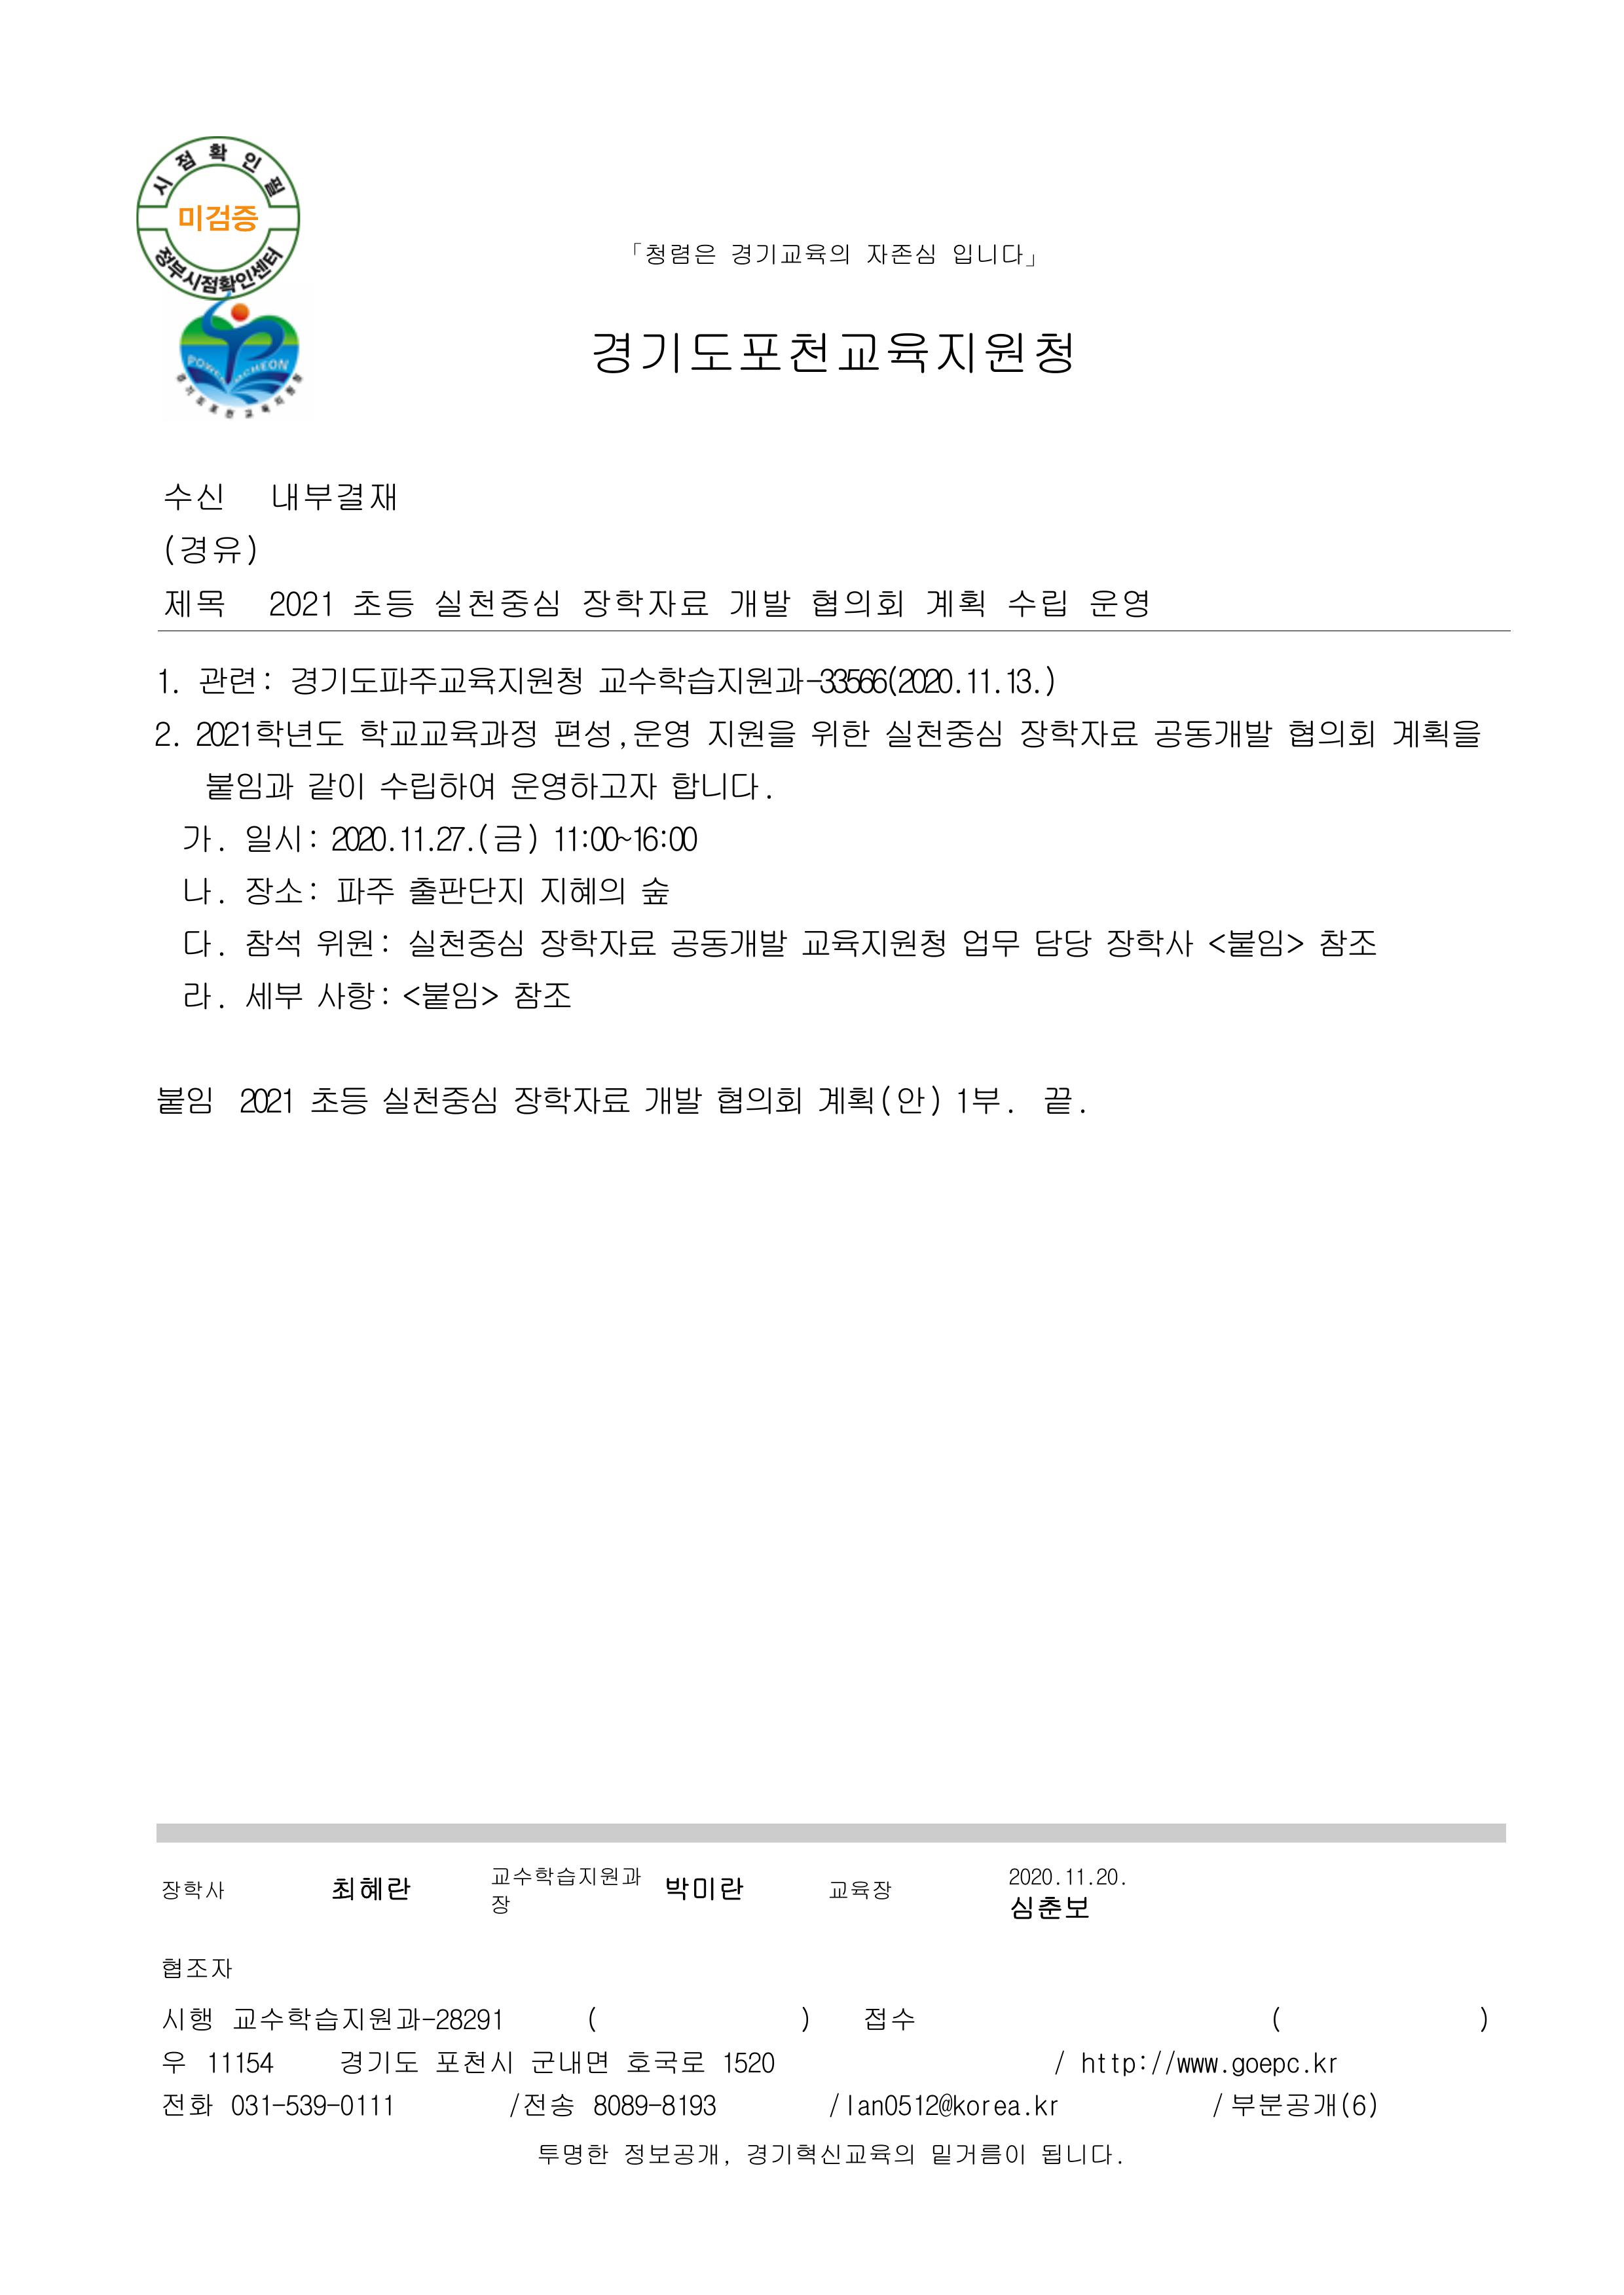t: (591, 329, 1075, 380), (287, 663, 584, 699), (595, 663, 821, 699), (329, 821, 541, 856), (355, 710, 538, 749), (229, 2000, 394, 2036), (742, 2137, 918, 2169), (1226, 2087, 1380, 2123), (509, 767, 659, 803), (800, 925, 946, 961), (268, 477, 397, 516), (1014, 713, 1140, 753), (1151, 713, 1273, 753), (882, 713, 1004, 753), (548, 821, 699, 853), (577, 584, 710, 620), (430, 584, 563, 620), (814, 1082, 946, 1118), (405, 871, 523, 911), (814, 663, 961, 695), (667, 925, 788, 961), (377, 1082, 498, 1118), (509, 1082, 631, 1118), (405, 925, 523, 961), (538, 925, 656, 961), (377, 767, 494, 803), (491, 1864, 645, 1890), (251, 713, 344, 753), (1388, 713, 1481, 753), (397, 979, 502, 1014), (1205, 925, 1305, 961), (706, 713, 796, 753), (161, 530, 258, 566), (807, 584, 904, 620), (1101, 925, 1198, 961), (671, 767, 767, 803), (961, 663, 1058, 699), (204, 767, 297, 803), (620, 2137, 724, 2169), (538, 871, 627, 907), (548, 717, 635, 753), (713, 1082, 800, 1118), (397, 2004, 506, 2033), (1283, 717, 1377, 749), (175, 200, 258, 236), (312, 925, 394, 961), (312, 979, 394, 1014), (731, 244, 846, 268), (283, 2094, 397, 2119), (197, 663, 276, 699), (244, 875, 319, 911), (329, 1871, 412, 1904), (663, 1871, 746, 1904), (244, 821, 319, 856), (1007, 1890, 1090, 1922), (337, 2047, 419, 2080), (534, 2137, 613, 2169), (932, 2144, 1029, 2169), (265, 584, 333, 620), (724, 584, 792, 620), (925, 2094, 1022, 2119), (161, 584, 226, 620), (921, 584, 986, 620), (1004, 584, 1069, 620), (304, 767, 369, 803), (1029, 925, 1094, 961), (308, 1082, 373, 1118), (638, 1082, 703, 1118), (434, 2047, 516, 2076), (527, 2047, 610, 2076), (623, 2047, 706, 2076), (348, 584, 412, 620), (807, 713, 871, 749), (333, 871, 397, 907), (957, 925, 1022, 961), (506, 2087, 577, 2119), (1316, 925, 1377, 961), (1086, 584, 1147, 620), (631, 717, 692, 753), (244, 925, 304, 961), (642, 240, 717, 268), (953, 244, 1040, 268), (157, 1082, 215, 1118), (1079, 2051, 1151, 2080), (950, 1082, 1007, 1118), (164, 480, 226, 513), (204, 2047, 276, 2076), (193, 717, 254, 749), (244, 979, 304, 1011), (509, 979, 570, 1011), (1043, 2144, 1118, 2169), (236, 1082, 294, 1115), (864, 244, 939, 268), (656, 2090, 720, 2119), (179, 871, 229, 907), (161, 1958, 232, 1983), (1230, 2055, 1301, 2080), (860, 2000, 914, 2033), (588, 2090, 649, 2119), (161, 1879, 229, 1904), (846, 2094, 914, 2119), (828, 1879, 893, 1904), (161, 2004, 215, 2033), (161, 2090, 215, 2119), (179, 925, 226, 957), (179, 821, 226, 853), (720, 2051, 778, 2076), (226, 2090, 276, 2119), (1040, 1082, 1079, 1118), (179, 979, 222, 1011), (1165, 2055, 1223, 2076), (1007, 1868, 1058, 1890), (638, 875, 671, 907), (1033, 2094, 1061, 2119), (1094, 1868, 1122, 1890), (1312, 2055, 1341, 2076), (1065, 1868, 1090, 1890), (164, 2051, 186, 2076), (157, 720, 175, 749), (157, 670, 175, 695), (491, 1897, 513, 1918)
